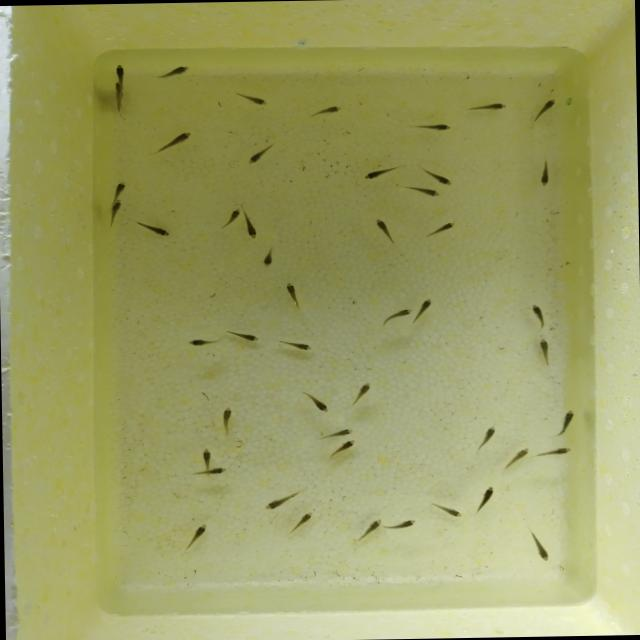fingerling: (153, 128, 200, 154), (276, 278, 308, 308), (551, 407, 581, 438), (370, 215, 398, 248), (526, 528, 553, 562), (184, 518, 212, 549), (501, 445, 534, 470), (473, 483, 500, 513), (305, 102, 349, 120), (474, 421, 500, 451), (138, 220, 176, 240), (234, 90, 272, 110), (304, 389, 332, 415), (531, 96, 556, 125), (432, 499, 464, 521), (259, 492, 292, 513), (538, 444, 578, 461), (358, 165, 398, 182), (422, 220, 456, 240), (348, 380, 372, 408), (244, 144, 274, 166), (420, 168, 455, 186), (356, 518, 384, 540), (407, 185, 448, 200), (528, 298, 547, 330), (534, 334, 554, 364), (152, 65, 192, 80), (107, 84, 131, 109), (282, 338, 318, 354), (292, 509, 318, 531), (381, 307, 414, 324), (328, 439, 362, 455), (242, 215, 262, 242), (386, 516, 422, 530), (414, 121, 456, 133), (323, 426, 363, 438), (470, 100, 510, 112), (106, 200, 122, 228), (229, 330, 265, 342), (182, 336, 218, 348), (223, 206, 241, 230), (220, 403, 234, 432), (416, 296, 434, 318), (110, 179, 130, 198), (260, 247, 276, 270), (538, 162, 552, 188), (194, 466, 230, 476), (112, 63, 127, 83), (200, 444, 214, 464)
